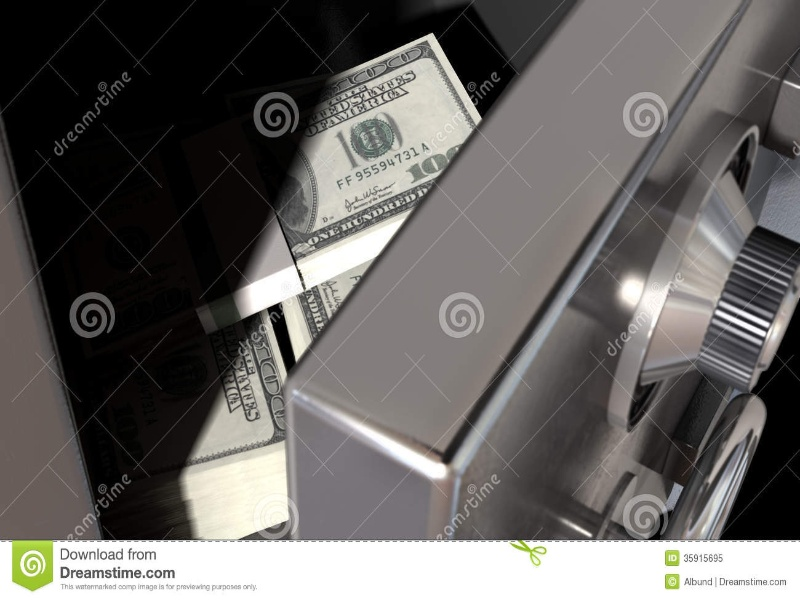cash: (154, 33, 482, 537)
